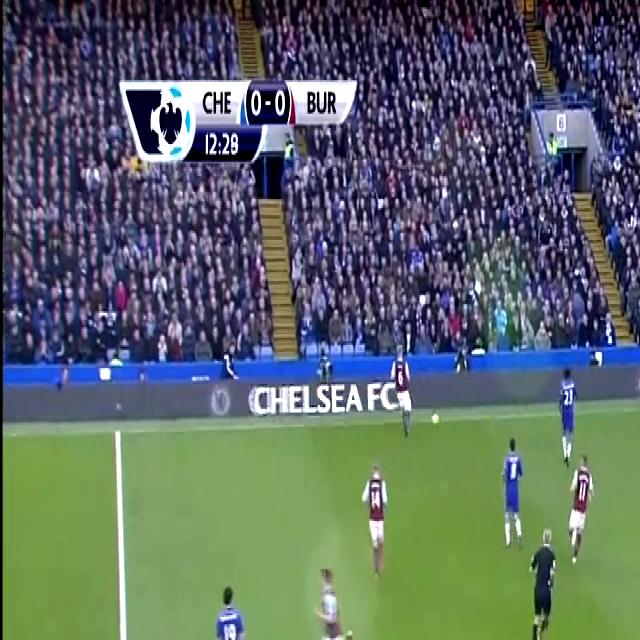ball: (428, 405, 446, 438)
referee: (527, 522, 555, 640)
soccer-player: (492, 435, 531, 563), (564, 452, 594, 565), (386, 340, 418, 444), (203, 578, 256, 640), (363, 452, 388, 569), (556, 359, 581, 456), (331, 629, 383, 640)
